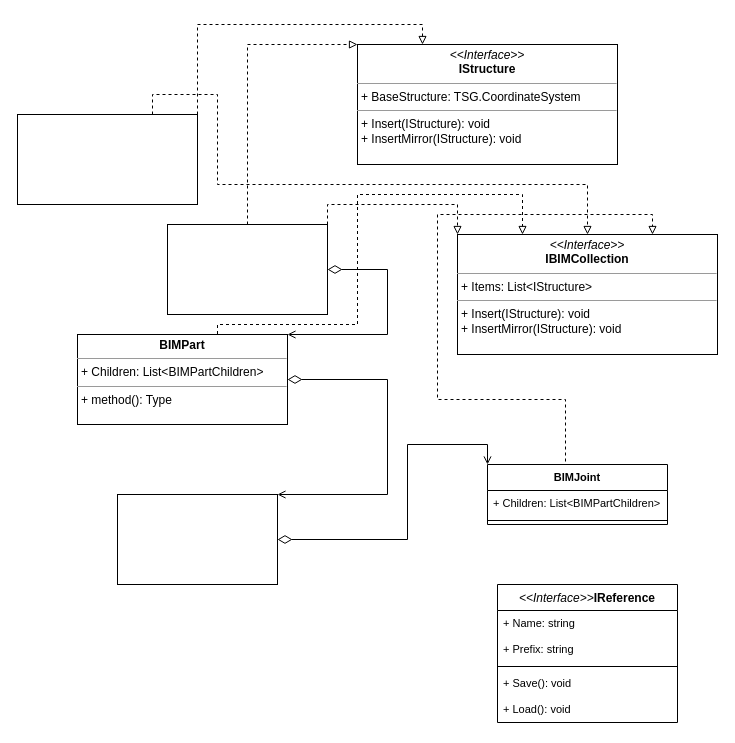
This 735x743 diagram has some shape labels left out. The shapes that lost their labels are listed below. From the top down, each one's centre as x and y in pixels, then its label:
At point 107,159: "BIMStructure + Children: List<BIMAssembly> + method(): Type".
At point 247,269: "BIMAssembly + Children: List<BIMPart> + method(): Type".
At point 197,539: "BIMPartChildren + field: Type + method(): Type".
